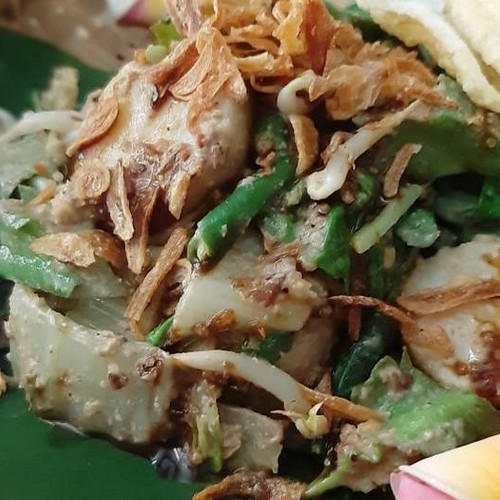tipat cantok: (21, 18, 494, 469)
